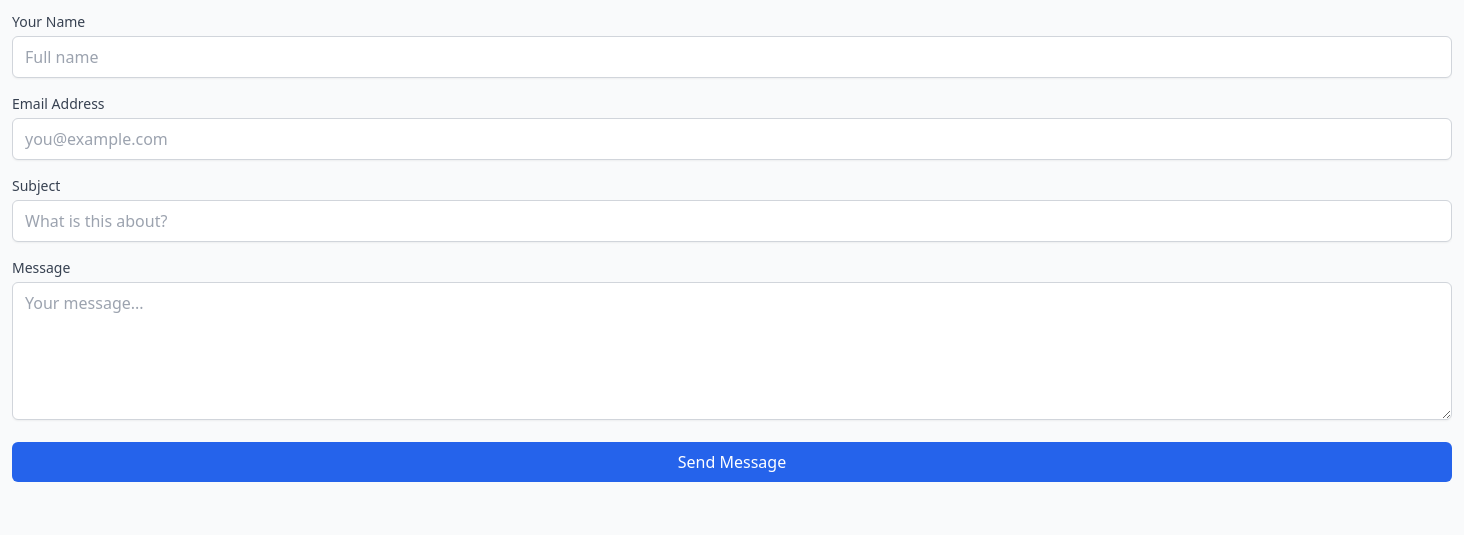
it: ContactForm › shows an inline error message on a non-2xx response
In the field labelled "Your Name": [732, 57] box [12,36,1452,78], type "Jane Doe"
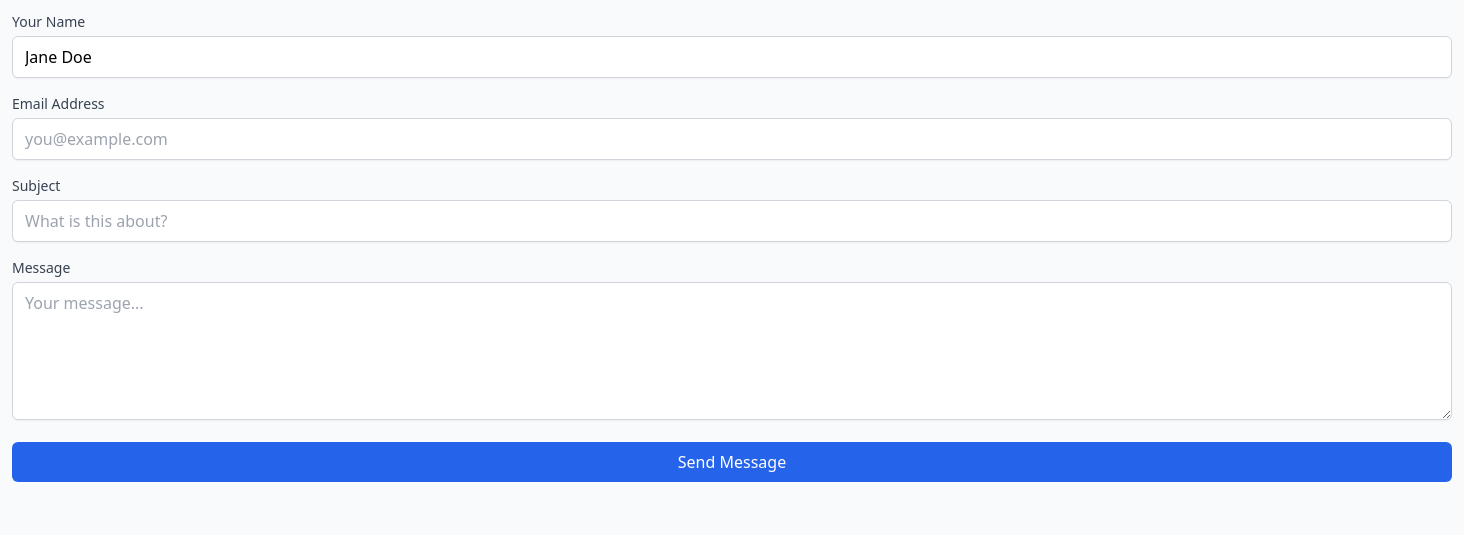
In the field labelled "Email Address": [732, 139] box [12,118,1452,160], type "jane@example.com"
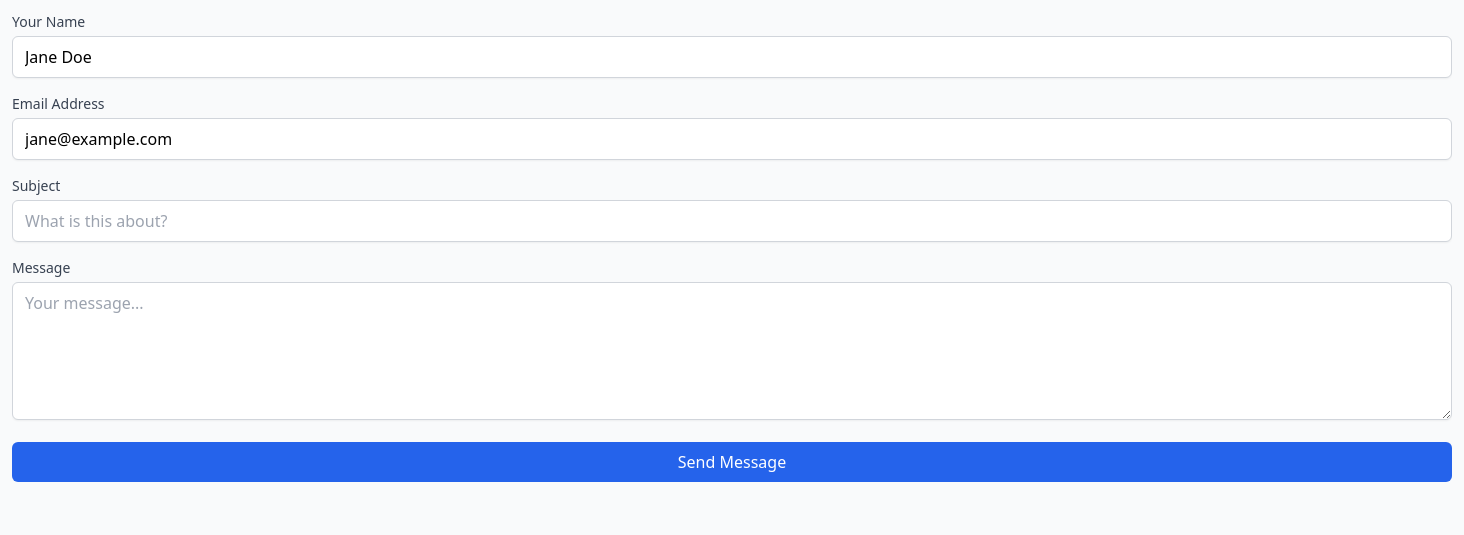
In the field labelled "Subject": [732, 221] box [12,200,1452,242], type "Hello"
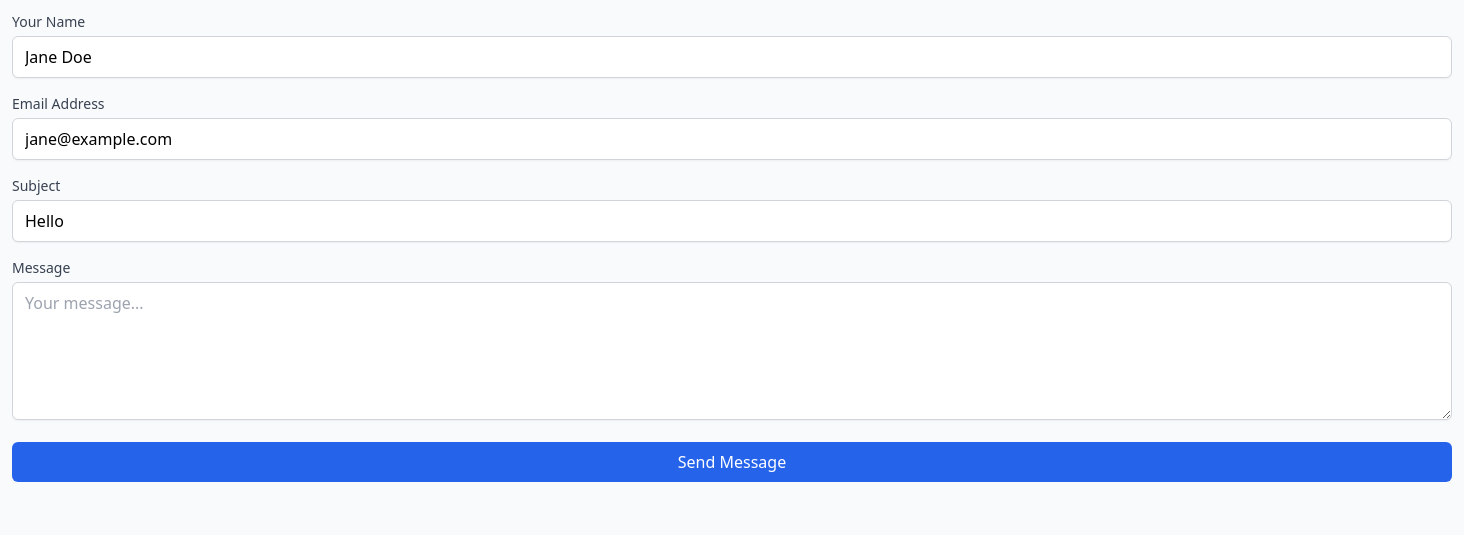
In the text box labelled "Message": [732, 351] box [12,282,1452,420], type "Hi there"
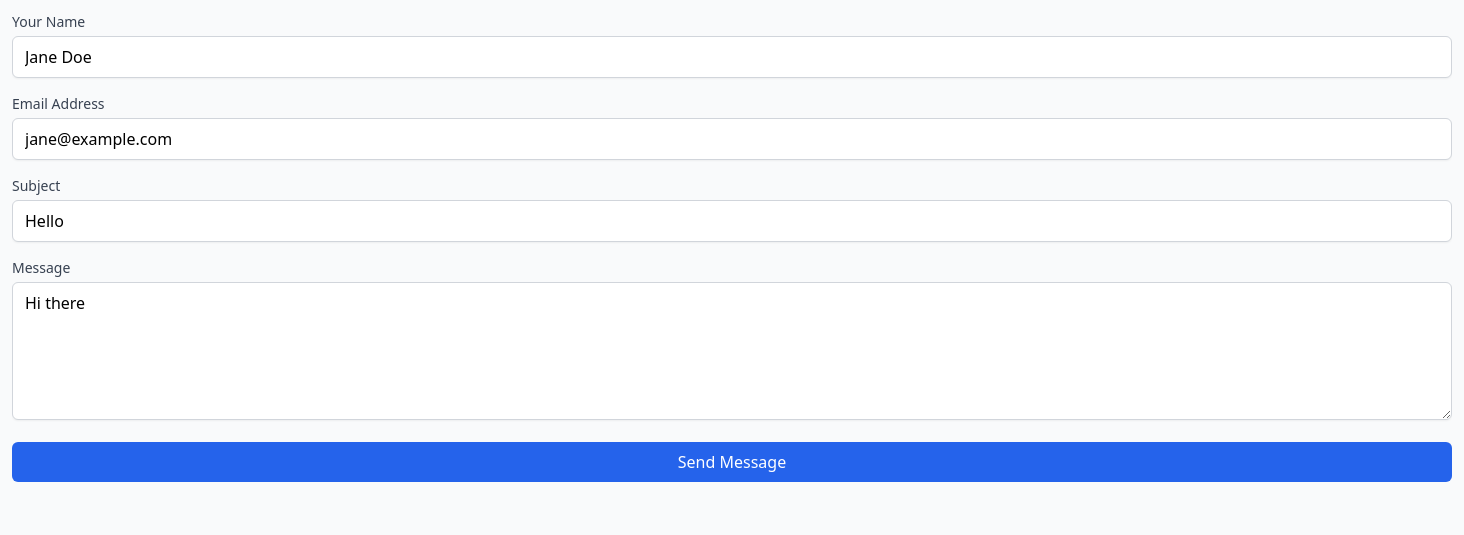
Click the button "Send Message": [732, 462] box [12,442,1452,482]
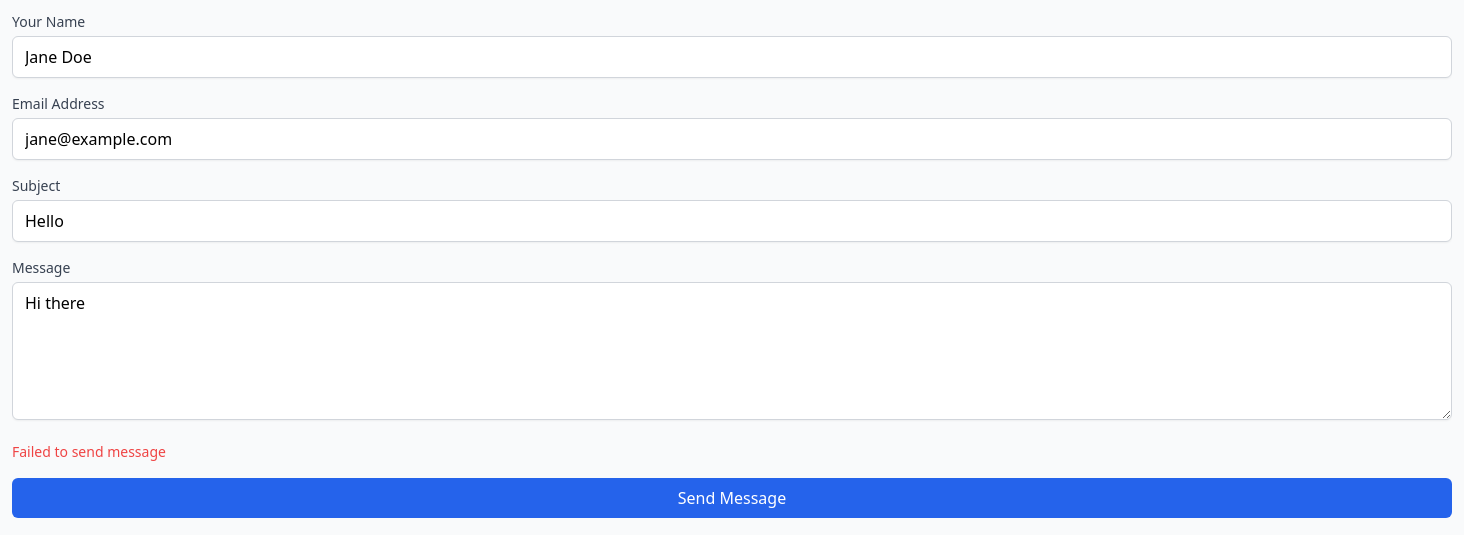
Expected: the text "Failed to send message" is shown, [12,442,166,461]
